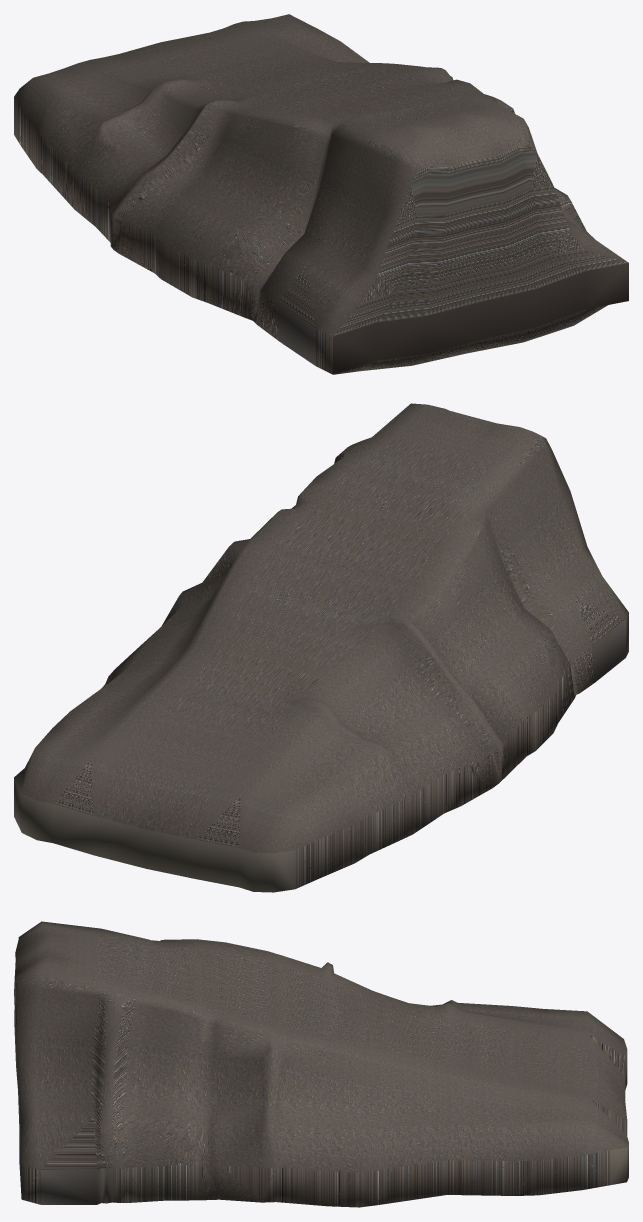
Rendered from cave_modules_ramp.dae.
The picture shows the model from 3 angles, top to bottom: view 1: azimuth 30°, elevation 25°; view 2: azimuth 150°, elevation 25°; view 3: azimuth 270°, elevation 25°; orthographic projection. The views are drawn at different scales.
Parts seen in each view (by area): view 1: ramp_01; view 2: ramp_01; view 3: ramp_01.
Part boxes in pixels (box(x1,y1,x2,y2)): ramp_01: box(14, 14, 628, 374); ramp_01: box(14, 403, 628, 892); ramp_01: box(14, 921, 628, 1207).
Size of what is drawn, in the model's own units: 11.61 by 6.9 by 18.51.
